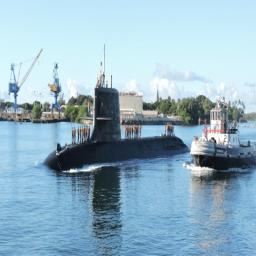submarine: (43, 85, 191, 177)
